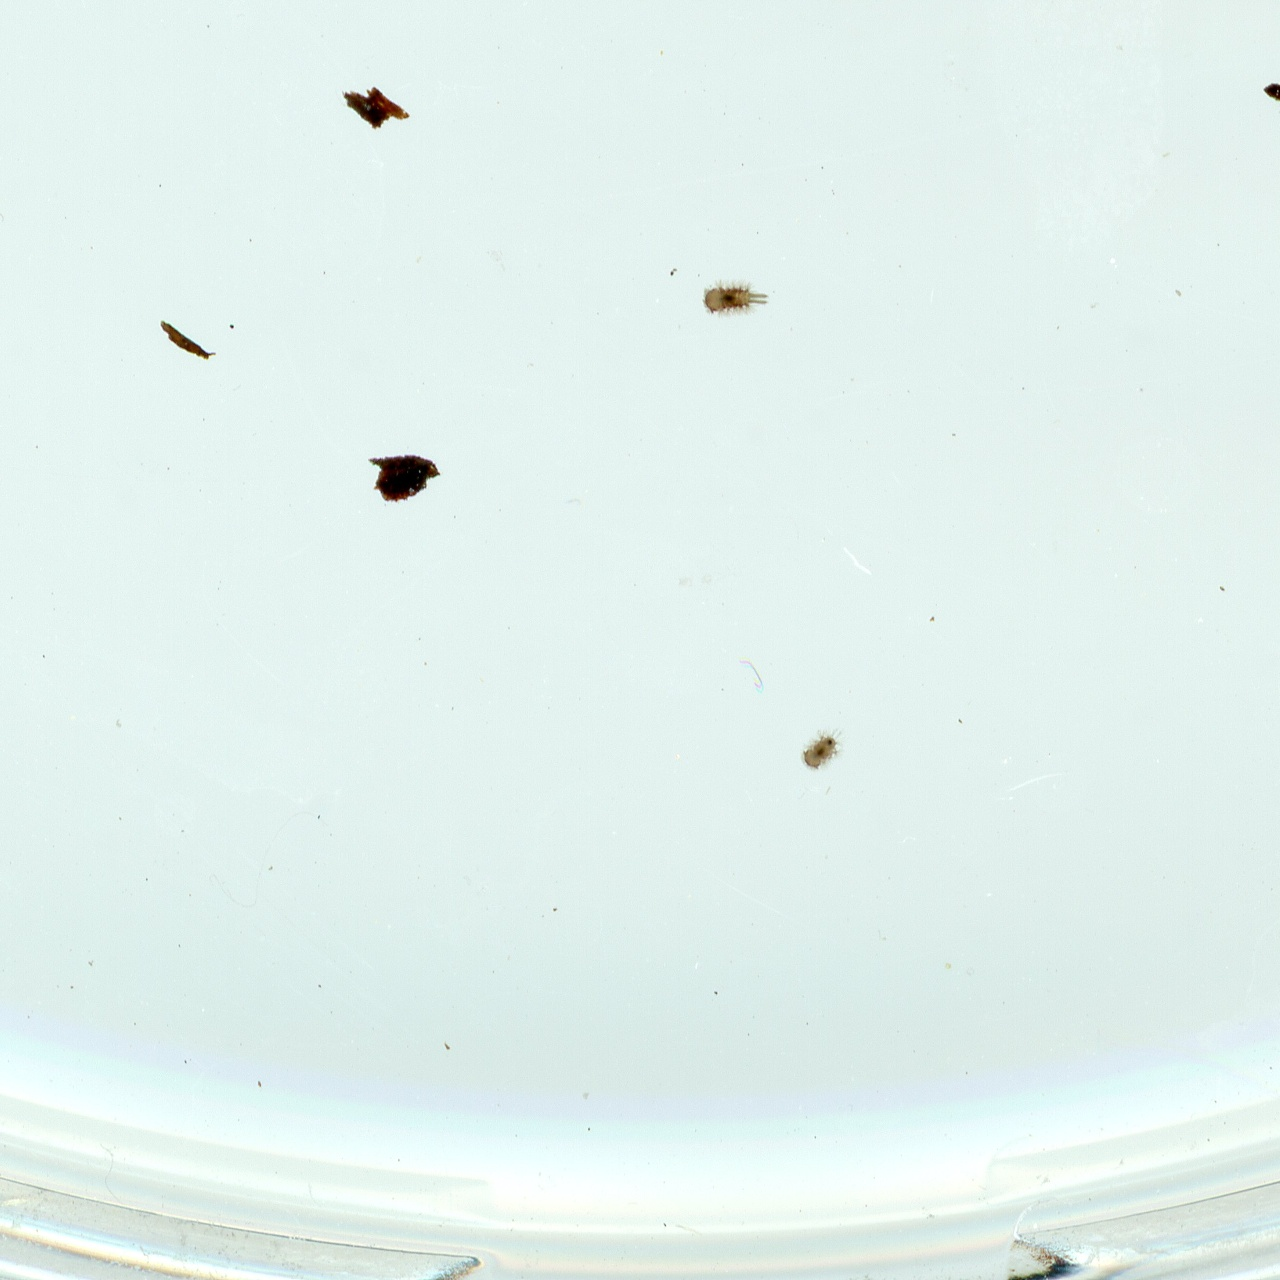arthropod: (697, 277, 774, 322), (796, 721, 851, 775)
